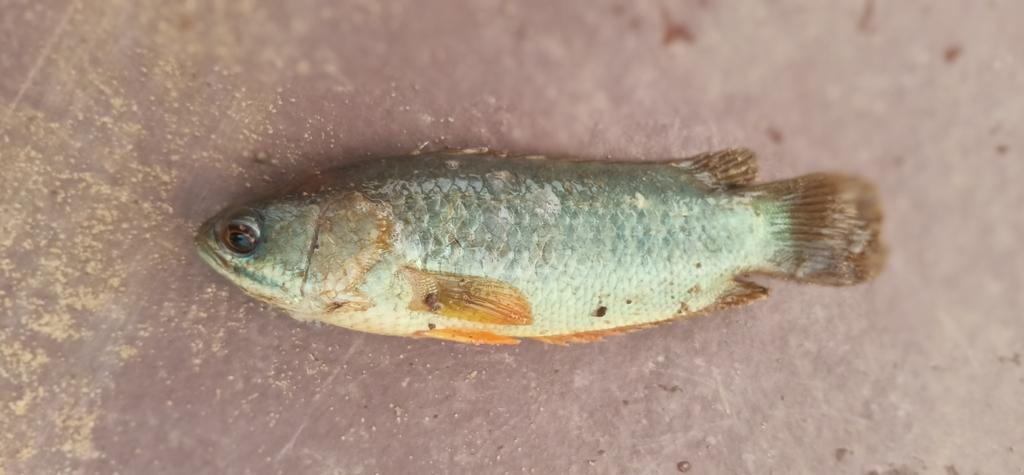Climbing Perch: (189, 146, 884, 346)
